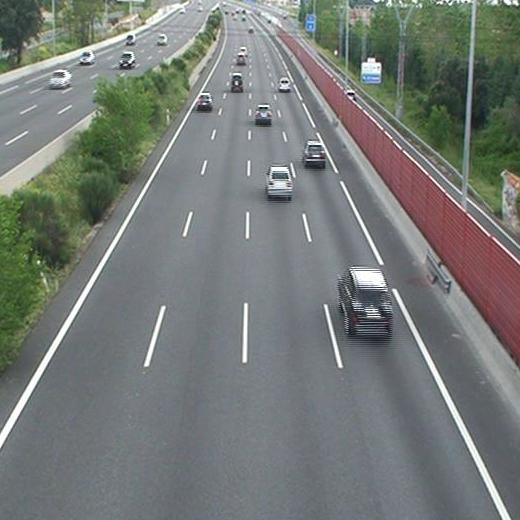car: (338, 267, 392, 329), (266, 166, 294, 196), (303, 142, 326, 163), (255, 105, 272, 121), (197, 92, 211, 108), (279, 78, 291, 90), (232, 74, 243, 87), (236, 53, 246, 64)
